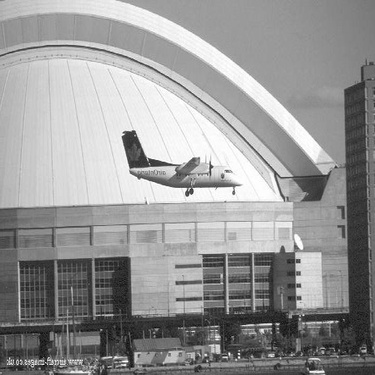airplane: (108, 117, 252, 221)
